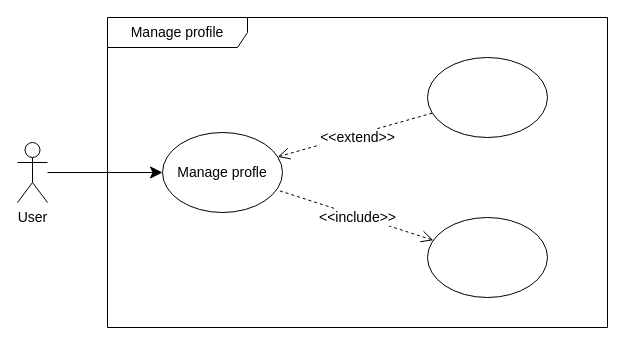
Image size: 625x345. Some labels were removed from this diagram. Here are the shapes that lost their labels. From the top down, the centre of each, then its label:
At (x=487, y=97): "Update information".
At (x=487, y=257): "Authenticate".
